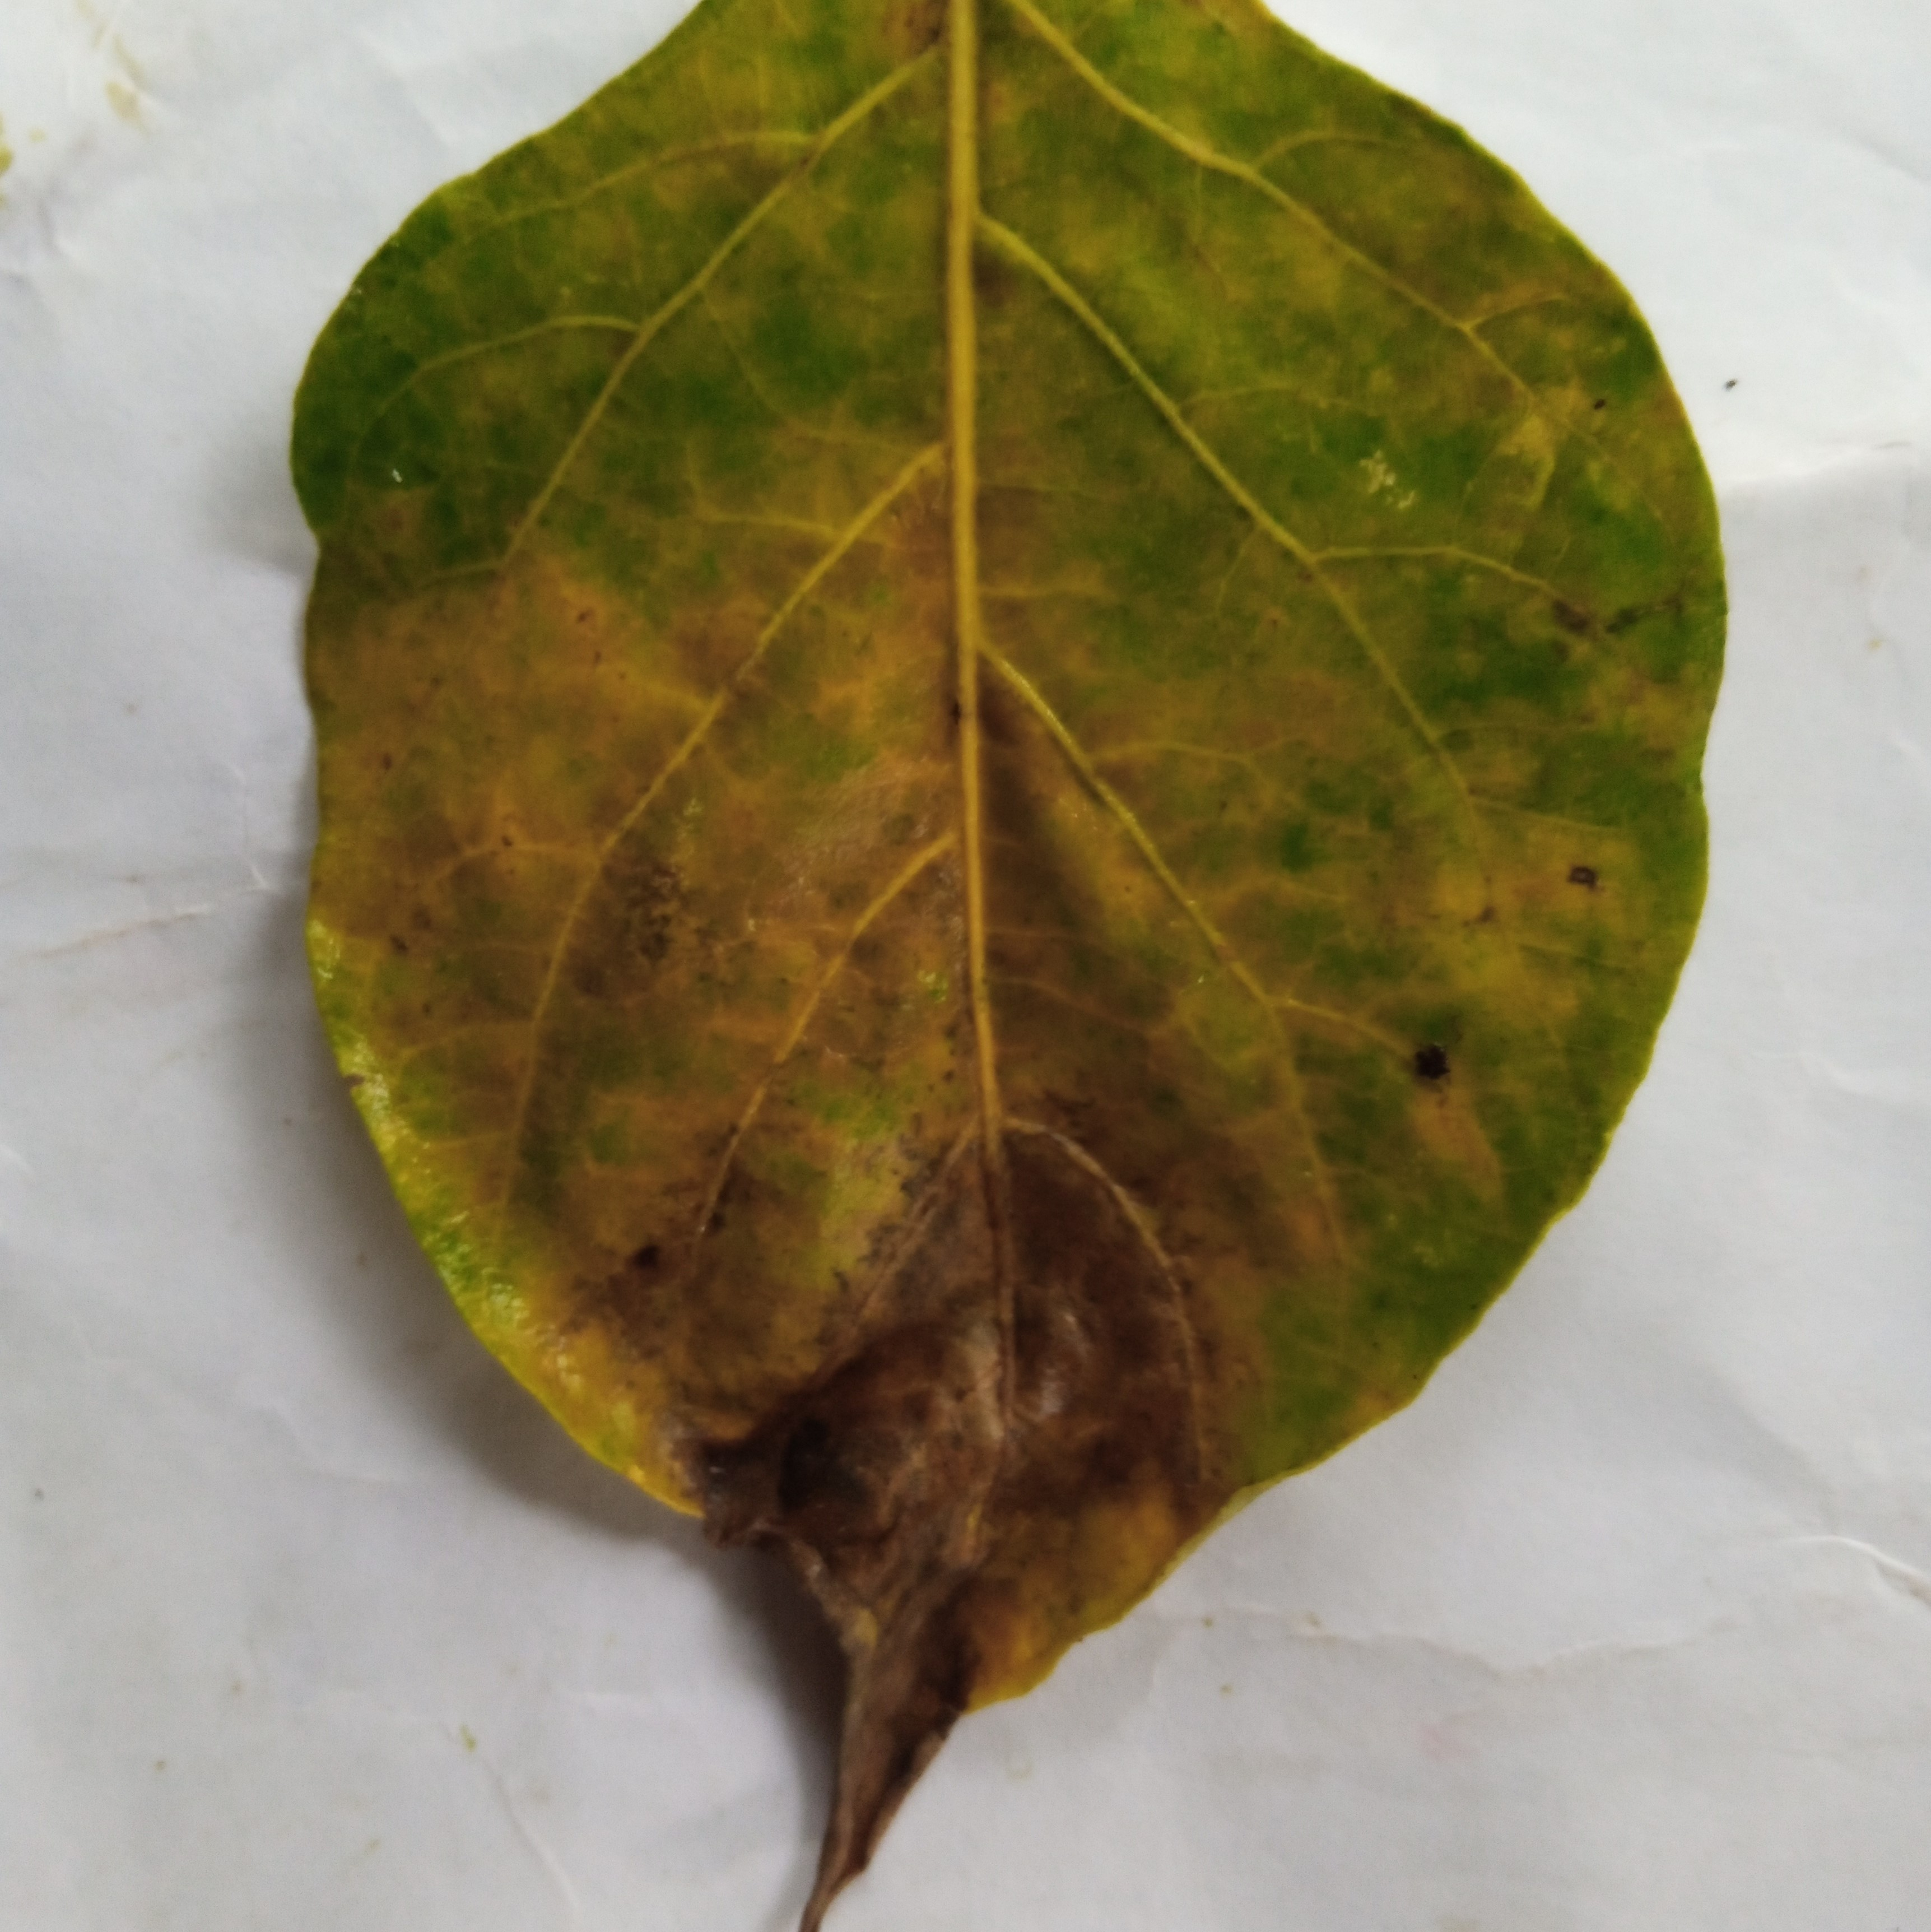Leaf: (205, 4, 1881, 1932)
